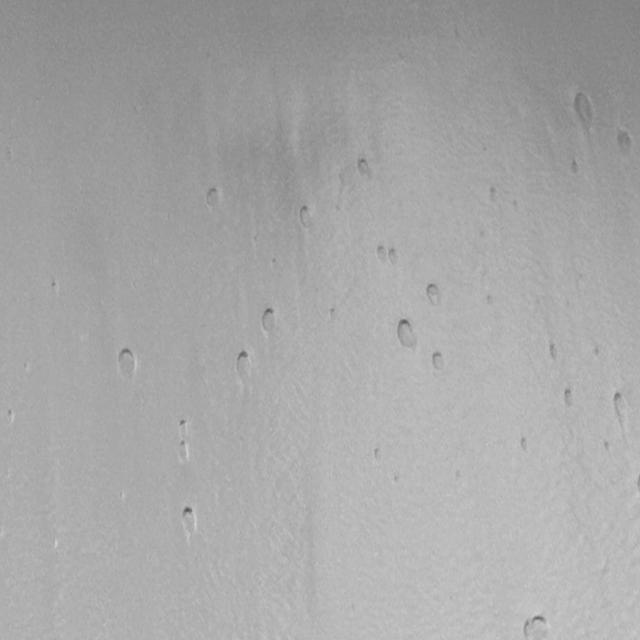pin holes: (568, 90, 598, 132), (522, 611, 555, 640), (113, 347, 140, 382), (393, 316, 418, 352), (232, 349, 255, 384), (609, 391, 631, 426), (177, 504, 199, 538), (258, 305, 280, 334), (295, 203, 317, 231), (615, 129, 636, 158), (356, 155, 378, 182), (203, 185, 225, 211), (425, 280, 446, 306), (427, 350, 447, 376), (175, 438, 194, 465), (546, 340, 563, 364), (372, 244, 390, 266), (46, 278, 64, 300), (569, 157, 586, 179), (563, 386, 578, 409), (517, 434, 532, 454), (388, 248, 403, 267), (371, 444, 386, 463), (487, 185, 500, 205), (176, 416, 190, 434), (510, 197, 524, 215), (4, 407, 17, 425), (600, 438, 613, 455), (328, 304, 340, 322), (591, 344, 603, 360), (484, 294, 496, 309)
